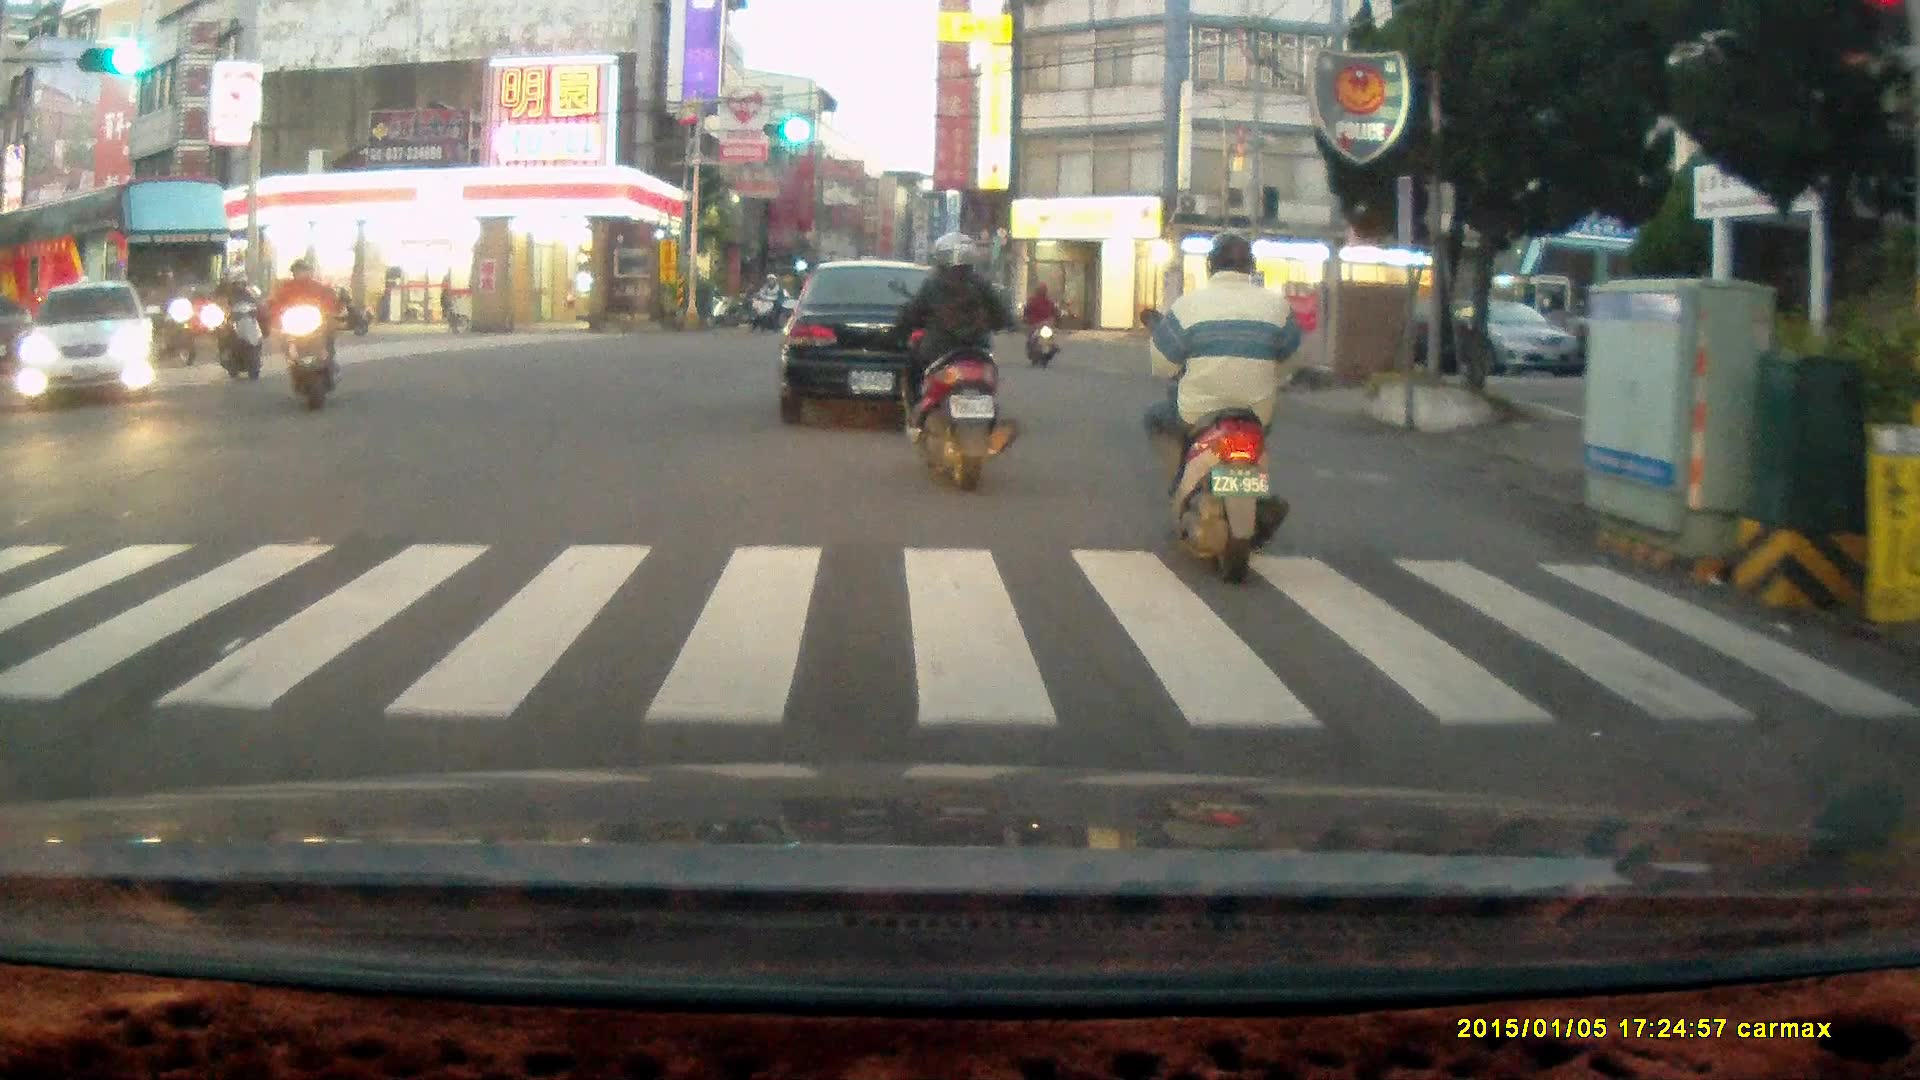rider: (1137, 234, 1295, 585), (884, 226, 1024, 494), (271, 256, 342, 416), (210, 261, 267, 383), (138, 263, 199, 368), (1023, 275, 1061, 366), (747, 279, 780, 342)
vehicle: (1, 179, 233, 354), (17, 283, 156, 408), (1395, 293, 1582, 379)
